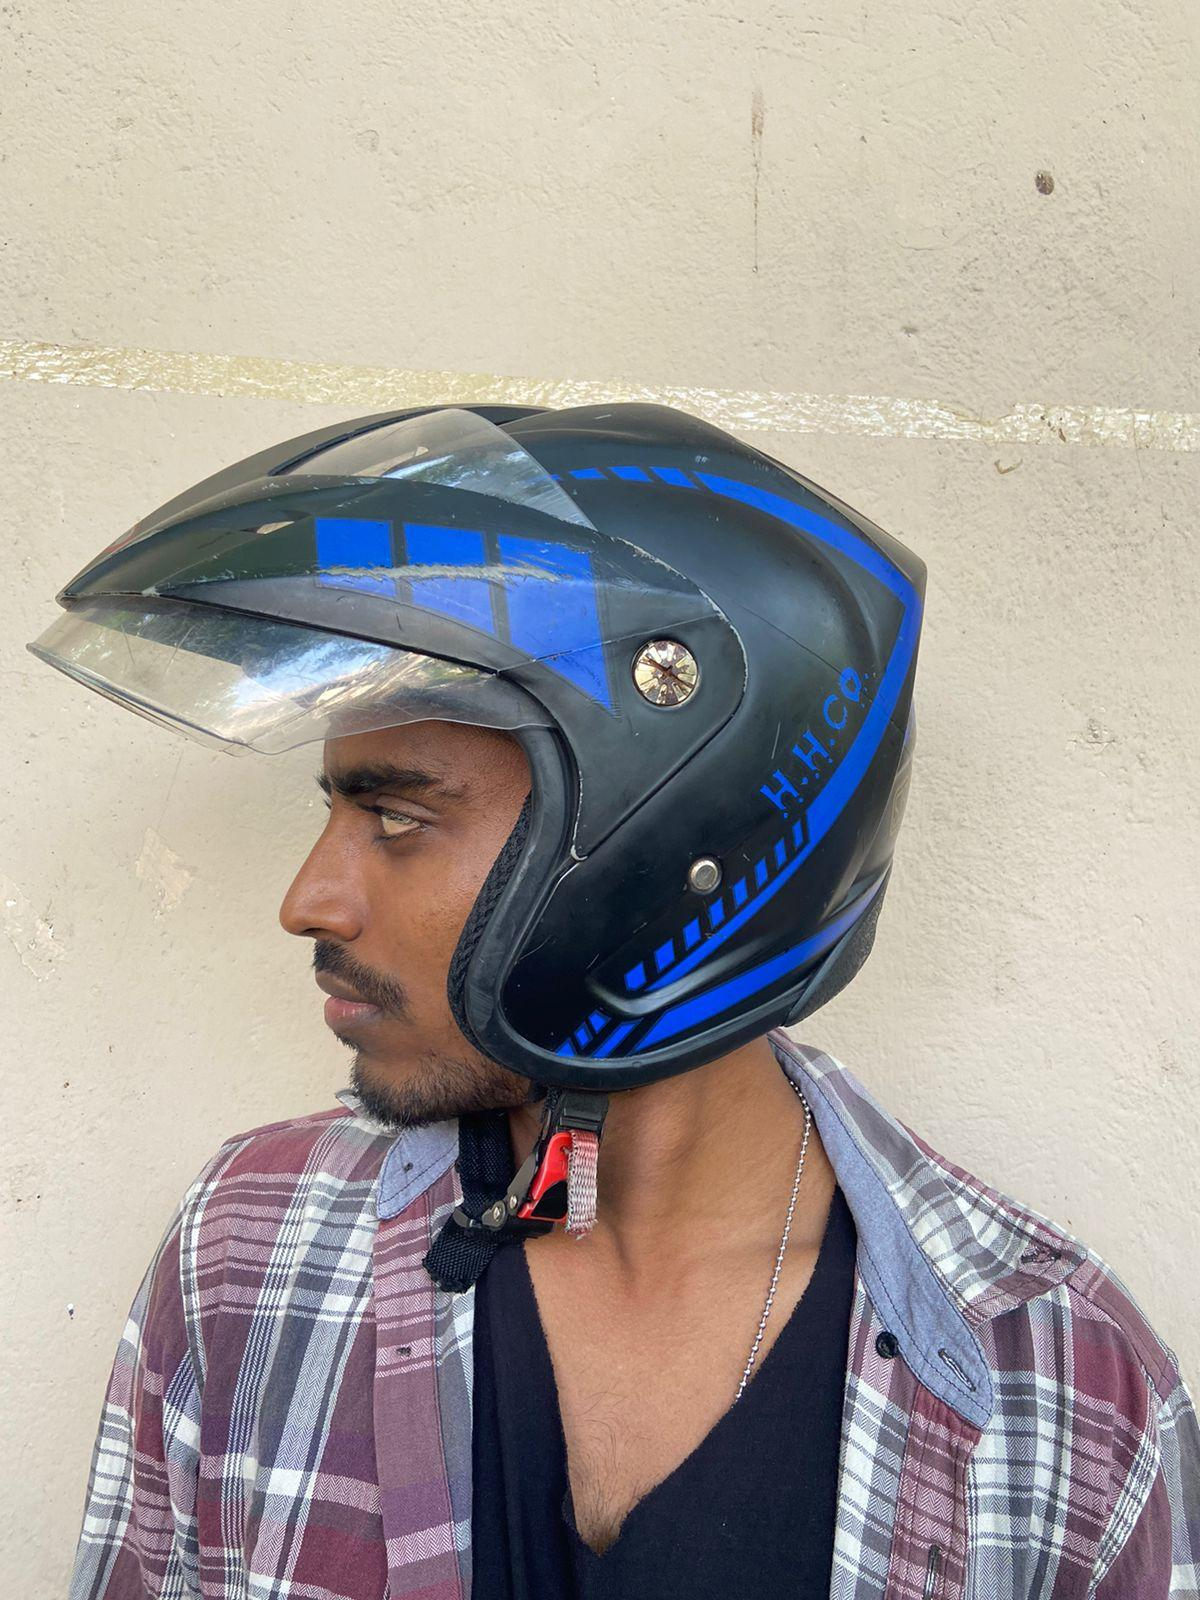helmet: (24, 399, 932, 1089)
